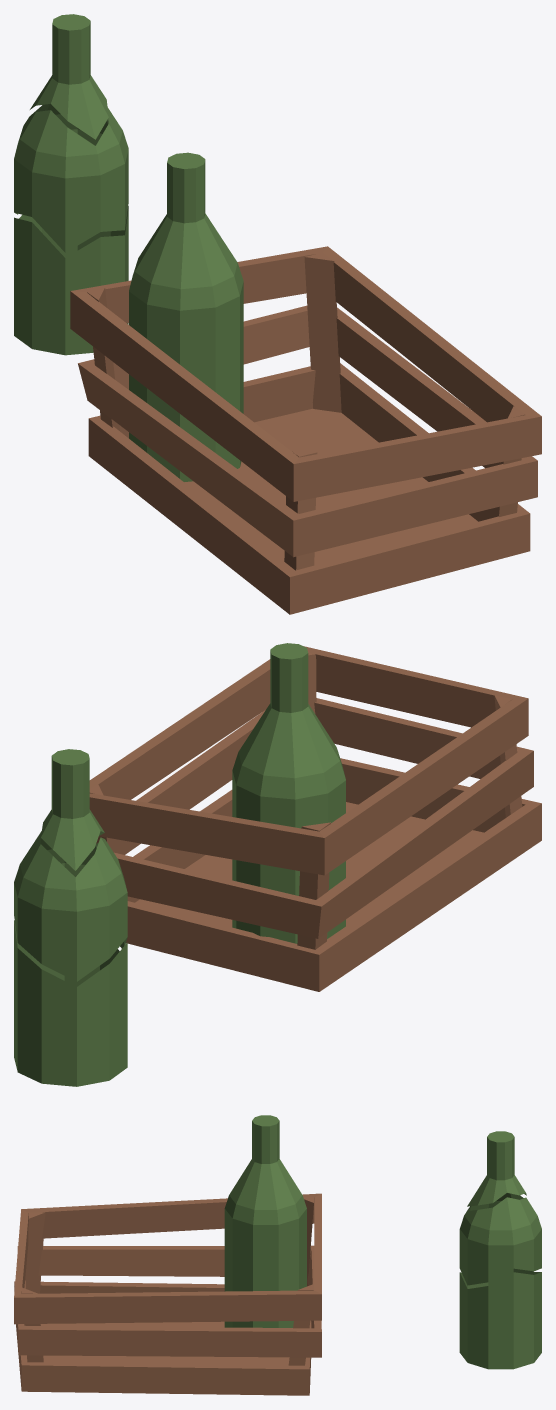
The model's file is Bottles.fbx.
3 views of the same model, one above another, from view 1: azimuth 30°, elevation 25°; view 2: azimuth 150°, elevation 25°; view 3: azimuth 270°, elevation 25° (orthographic). The views are drawn at different scales.
Parts seen in each view (by area): view 1: Cube.001, Cylinder, Cylinder.001, Cylinder.002, Cylinder.003; view 2: Cube.001, Cylinder, Cylinder.002, Cylinder.001, Cylinder.003; view 3: Cube.001, Cylinder, Cylinder.002, Cylinder.001, Cylinder.003.
Part boxes in pixels (bbox=[...]): Cube.001: bbox=[70, 246, 541, 614]; Cylinder: bbox=[129, 152, 243, 481]; Cylinder.001: bbox=[14, 104, 128, 252]; Cylinder.002: bbox=[14, 206, 128, 355]; Cylinder.003: bbox=[30, 14, 108, 139]; Cube.001: bbox=[89, 646, 541, 991]; Cylinder: bbox=[232, 643, 345, 943]; Cylinder.002: bbox=[14, 920, 127, 1086]; Cylinder.001: bbox=[14, 831, 127, 981]; Cylinder.003: bbox=[41, 749, 104, 870]; Cube.001: bbox=[14, 1193, 321, 1395]; Cylinder: bbox=[224, 1115, 306, 1327]; Cylinder.002: bbox=[459, 1268, 541, 1369]; Cylinder.001: bbox=[459, 1193, 541, 1285]; Cylinder.003: bbox=[467, 1131, 526, 1206].
Size of the model in its own units: 50.66 by 57.97 by 128.
